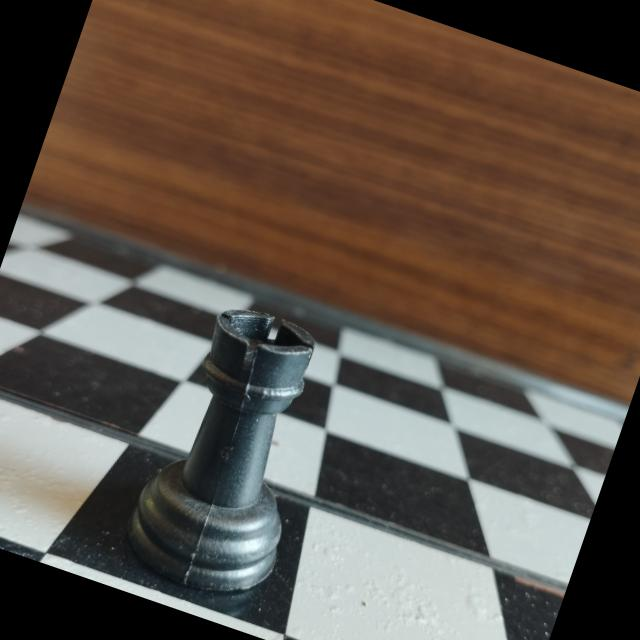Black Rook: (107, 286, 357, 617)
